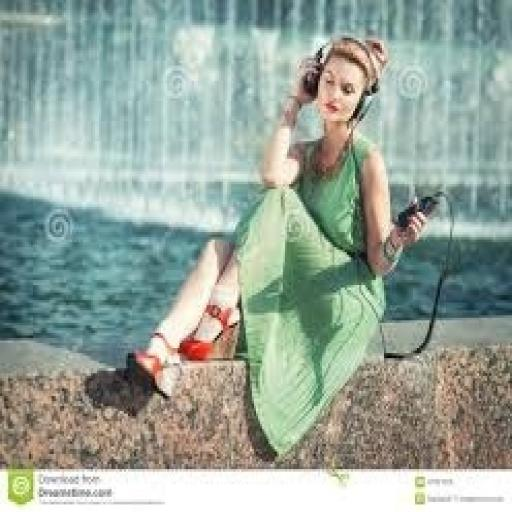listening_to_music: (126, 33, 429, 459)
